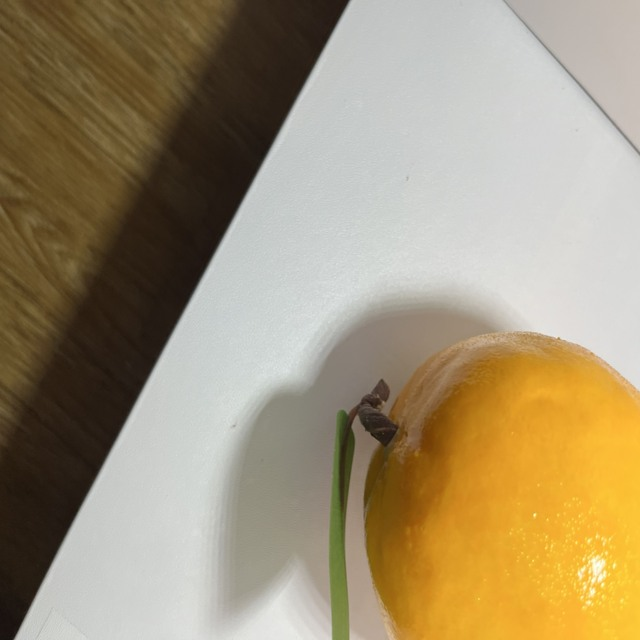Cam vang: (346, 326, 640, 640)
